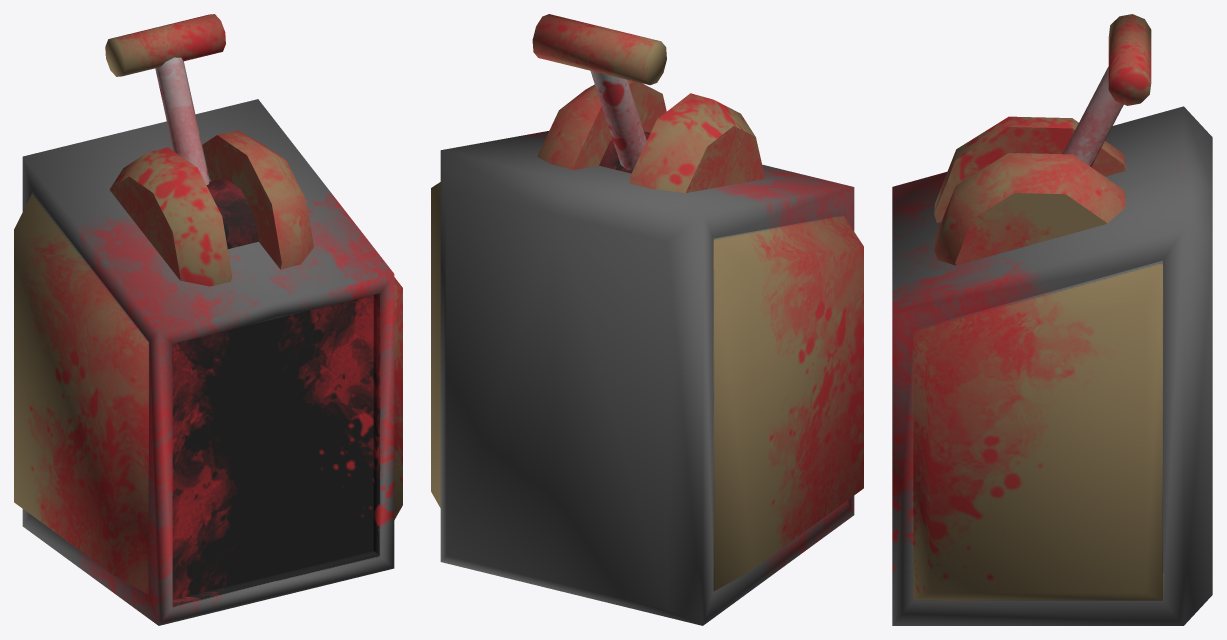
The model's file is switch.fbx.
3 renders of one model, left to right at view 1: azimuth 30°, elevation 25°; view 2: azimuth 150°, elevation 25°; view 3: azimuth 270°, elevation 25°, orthographic. The views are drawn at different scales.
Parts seen in each view (by area): view 1: switch_2; view 2: switch_2; view 3: switch_2.
Boxes of the visible parts, x1,y1,x2,y2 form: switch_2: (14,14,402,625); switch_2: (431,14,863,625); switch_2: (892,14,1212,625).
Size of the model in its own units: 0.7735 by 1.25 by 0.6927.
Materials: 1 (1 with a texture image).
